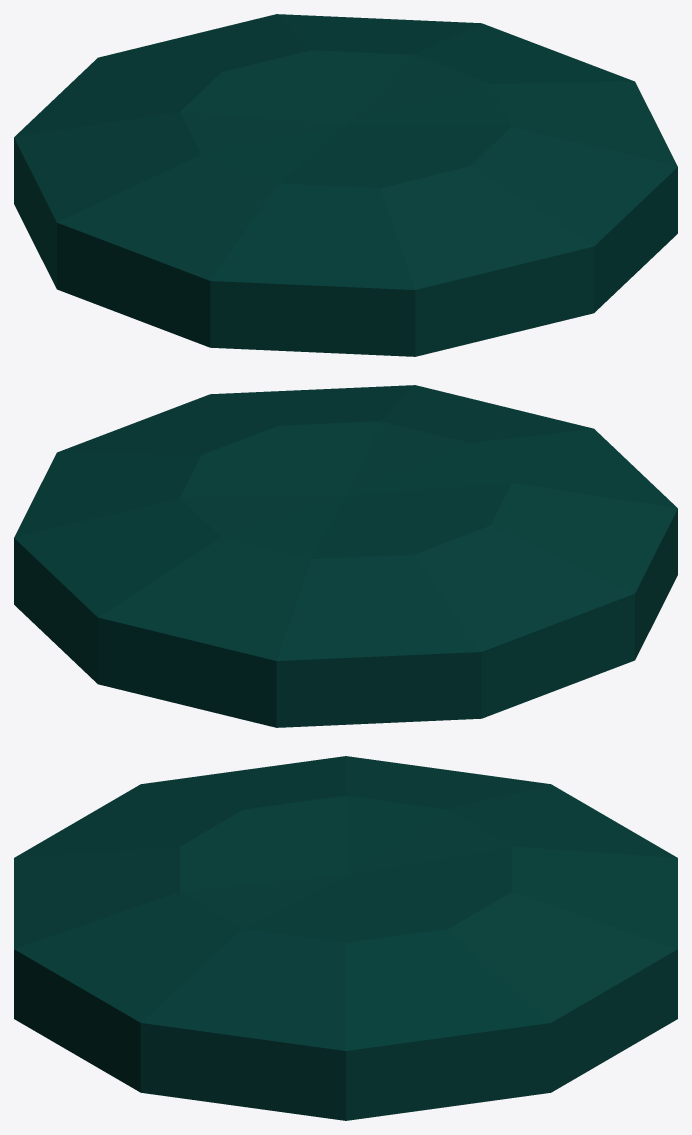
File: Bullet.fbx
The picture shows the model from 3 angles, top to bottom: view 1: azimuth 30°, elevation 25°; view 2: azimuth 150°, elevation 25°; view 3: azimuth 270°, elevation 25°; orthographic projection. The views are drawn at different scales.
Parts seen in each view (by area): view 1: pCylinder2; view 2: pCylinder2; view 3: pCylinder2.
Boxes of the visible parts, x1,y1,x2,y2 form: pCylinder2: (14,14,677,356); pCylinder2: (14,385,677,727); pCylinder2: (14,756,677,1120).
Size of the model in its own units: 8 by 1.32 by 7.61.
